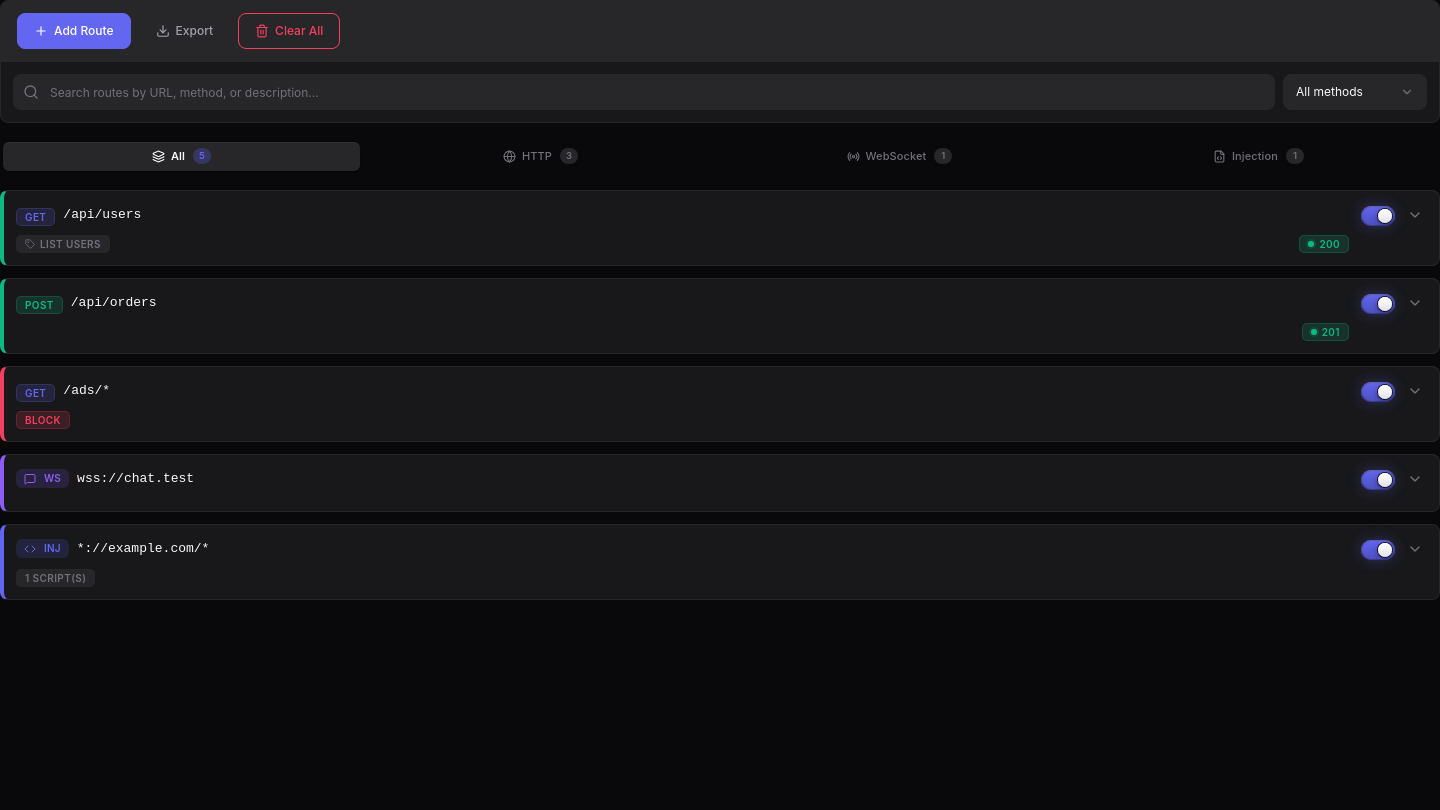
RoutesTab deleting › removes the route after confirming
Click the button "POST /api/orders 201": [39, 304] box [4,278,1439,352]
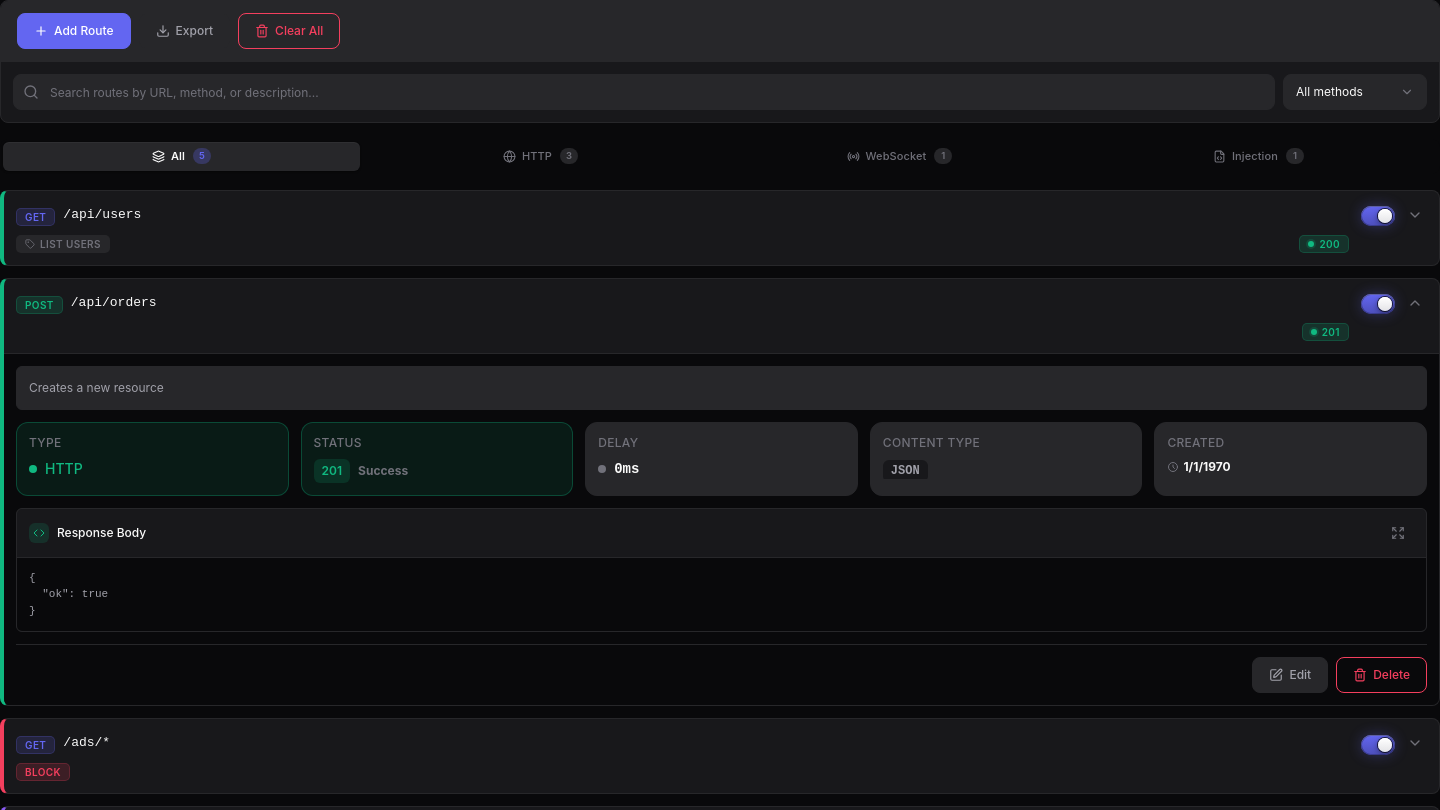
Click the button with aria-label "Delete route": [1382, 675] box [1336,657,1427,693]
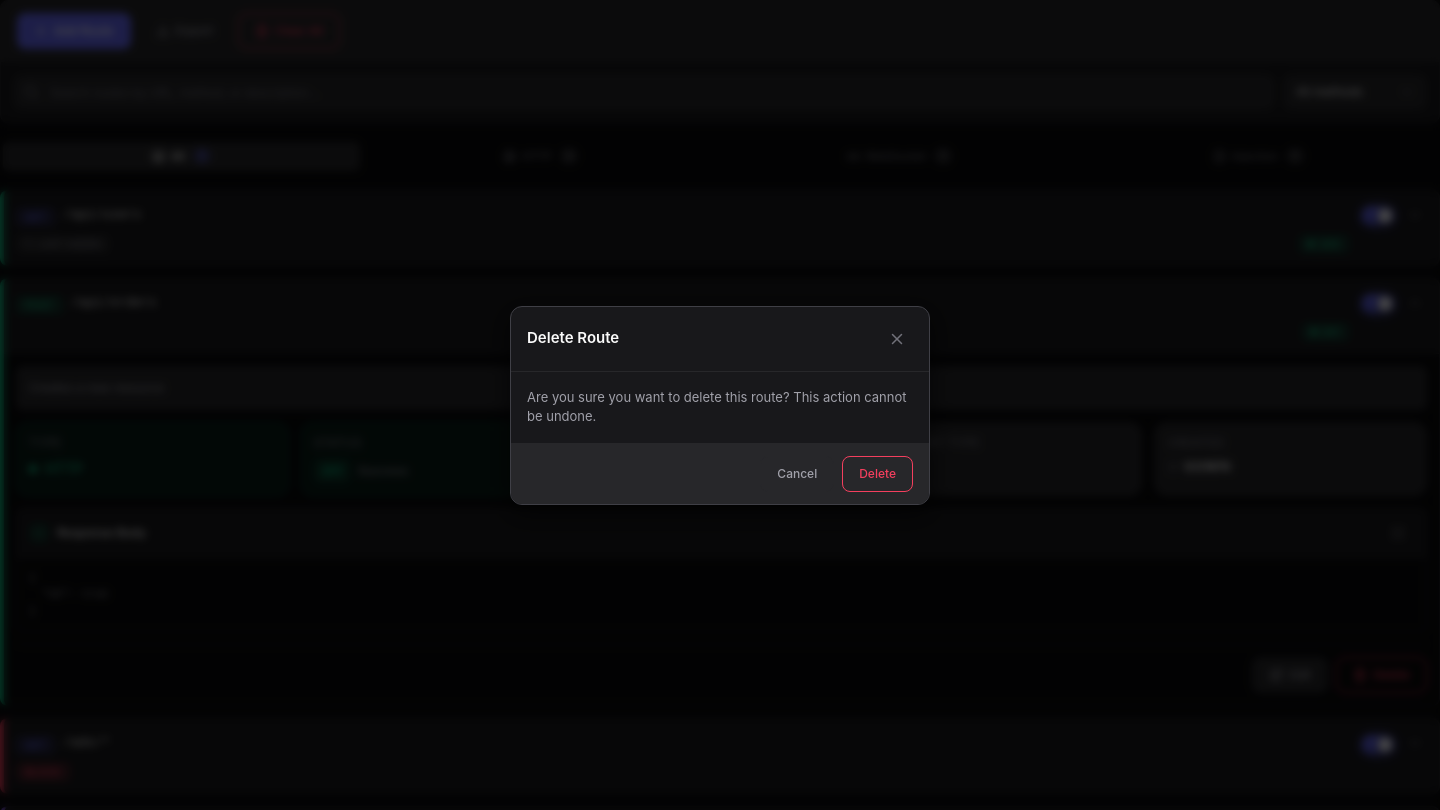
Click the button "Delete": [878, 474] box [842,456,913,492]
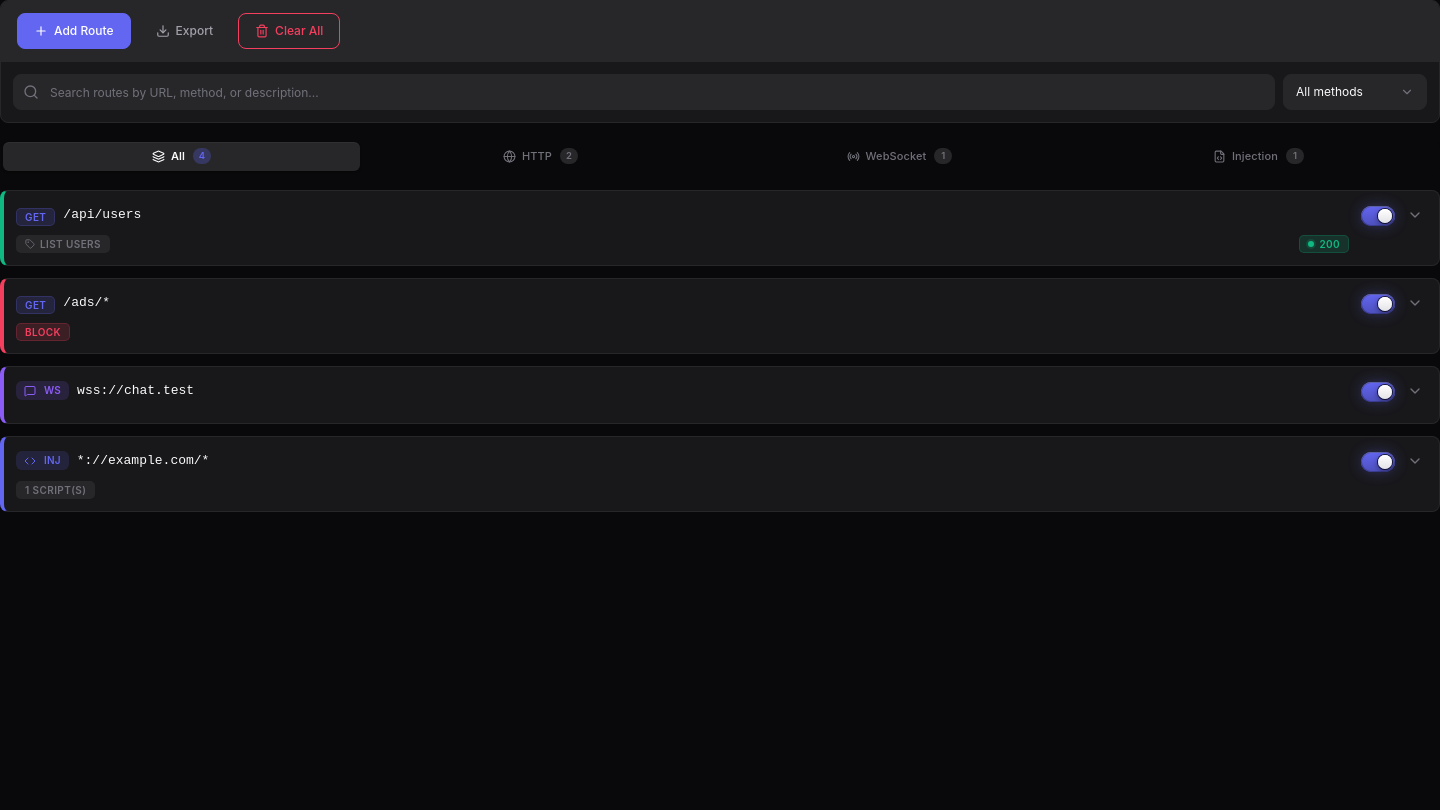
Expected: the button "/api/orders" no longer shows "/api/orders"
Expected: the heading "Delete Route" is gone
